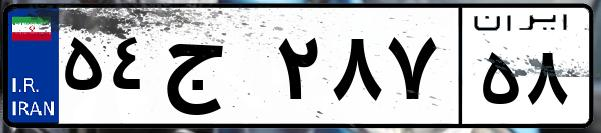2: (270, 28, 330, 110)
4: (110, 28, 158, 98)
5: (57, 26, 110, 100), (475, 38, 525, 113)
7: (385, 28, 445, 110)
8: (330, 28, 385, 110), (525, 38, 570, 115)
ج: (158, 20, 270, 120)
